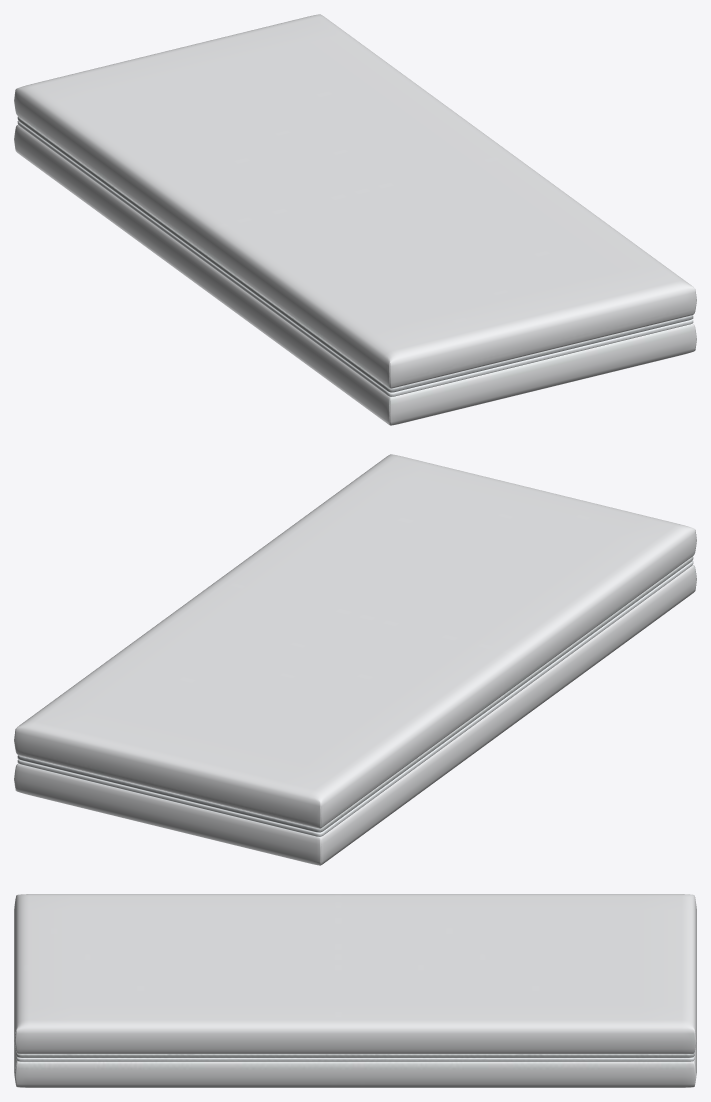
The model's file is B07SRSJW74.glb.
The picture shows the model from 3 angles, top to bottom: view 1: azimuth 30°, elevation 25°; view 2: azimuth 150°, elevation 25°; view 3: azimuth 270°, elevation 25°; orthographic projection. The views are drawn at different scales.
Parts seen in each view (by area): view 1: B07SRSJW74; view 2: B07SRSJW74; view 3: B07SRSJW74.
Boxes of the visible parts, left/top/right/bottom form: B07SRSJW74: left=14, top=14, right=696, bottom=425; B07SRSJW74: left=14, top=454, right=696, bottom=865; B07SRSJW74: left=14, top=894, right=696, bottom=1087.
Bounding box in the file's own units: 0.8999 × 0.1999 × 1.9.
Materials: 1 (1 with a texture image).
